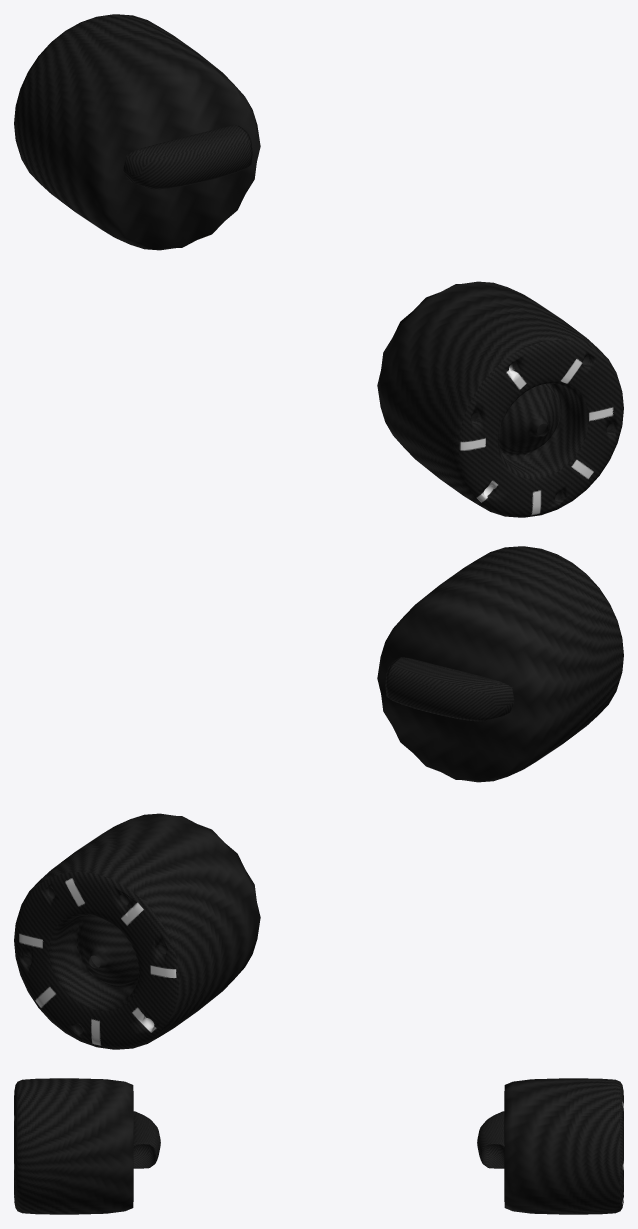
File: Wheelguard.fbx
3 views of the same model, one above another, from view 1: azimuth 30°, elevation 25°; view 2: azimuth 150°, elevation 25°; view 3: azimuth 270°, elevation 25° (orthographic). The views are drawn at different scales.
Visible parts, largest first — view 1: Wheelguard; view 2: Wheelguard; view 3: Wheelguard.
Boxes of the visible parts, x1,y1,x2,y2 form: Wheelguard: [14, 14, 623, 517]; Wheelguard: [14, 546, 623, 1049]; Wheelguard: [14, 1078, 623, 1214].
Size of the model in its own units: 0.3908 by 0.3908 by 1.75.
